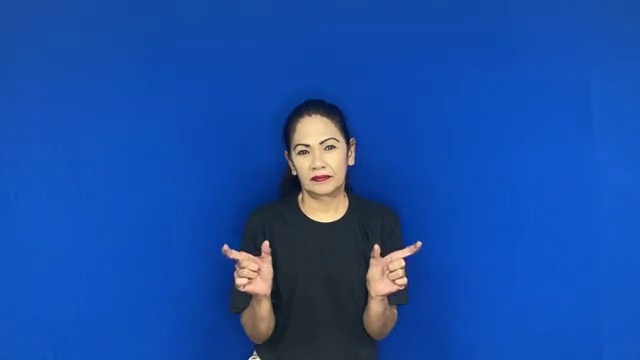crab: (215, 233, 429, 303)
